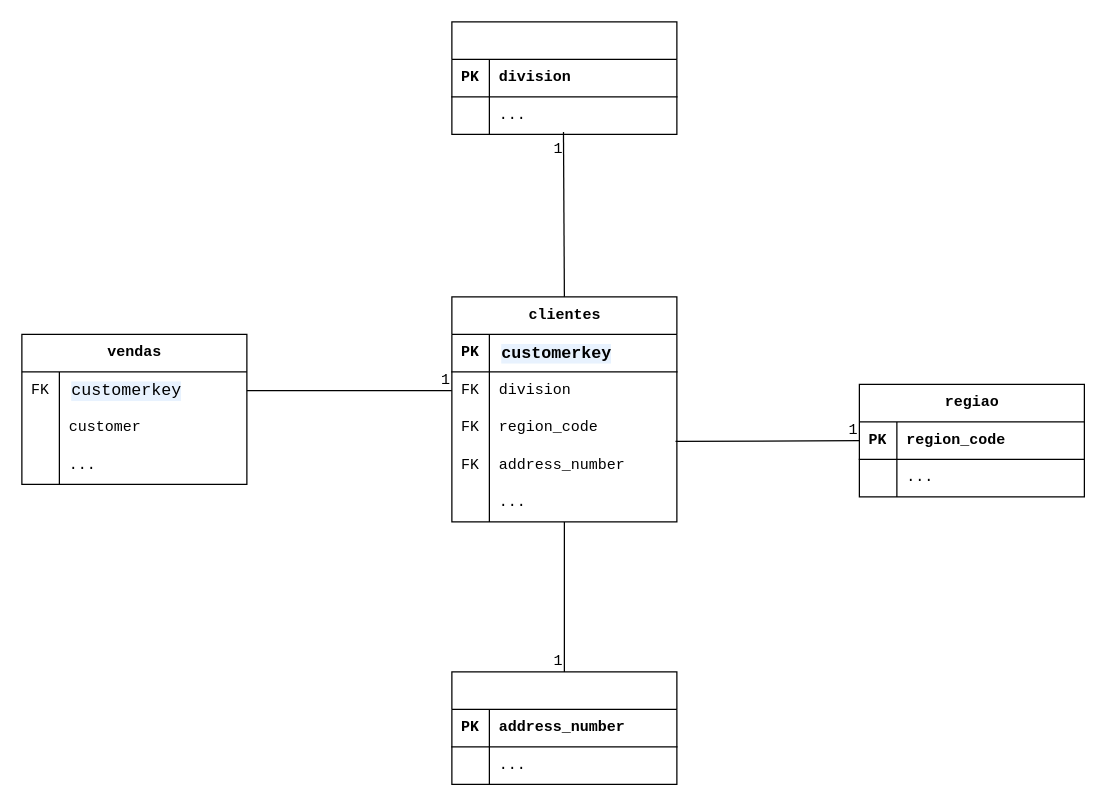
Image size: 1106x806. Some labels were removed from this diagram. Here are the shapes that lost their labels. From the top down, the box of each, then its label:
(451, 21, 677, 134): divisao
(451, 671, 677, 784): endereco
